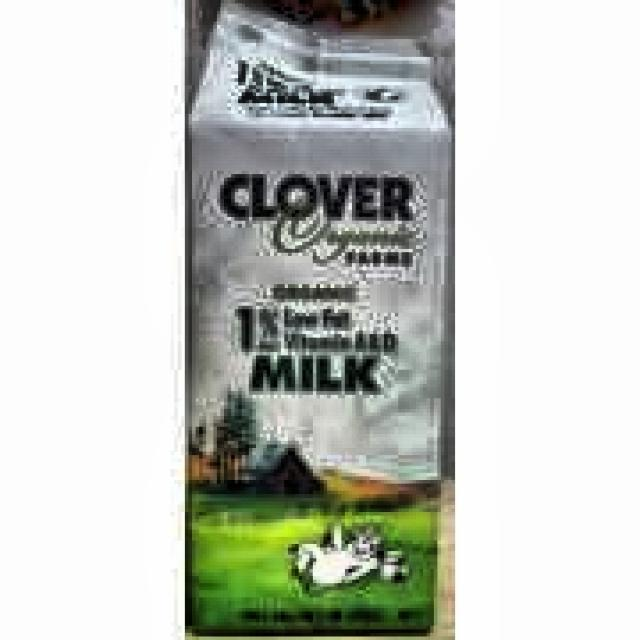cardboard: (181, 0, 455, 636)
